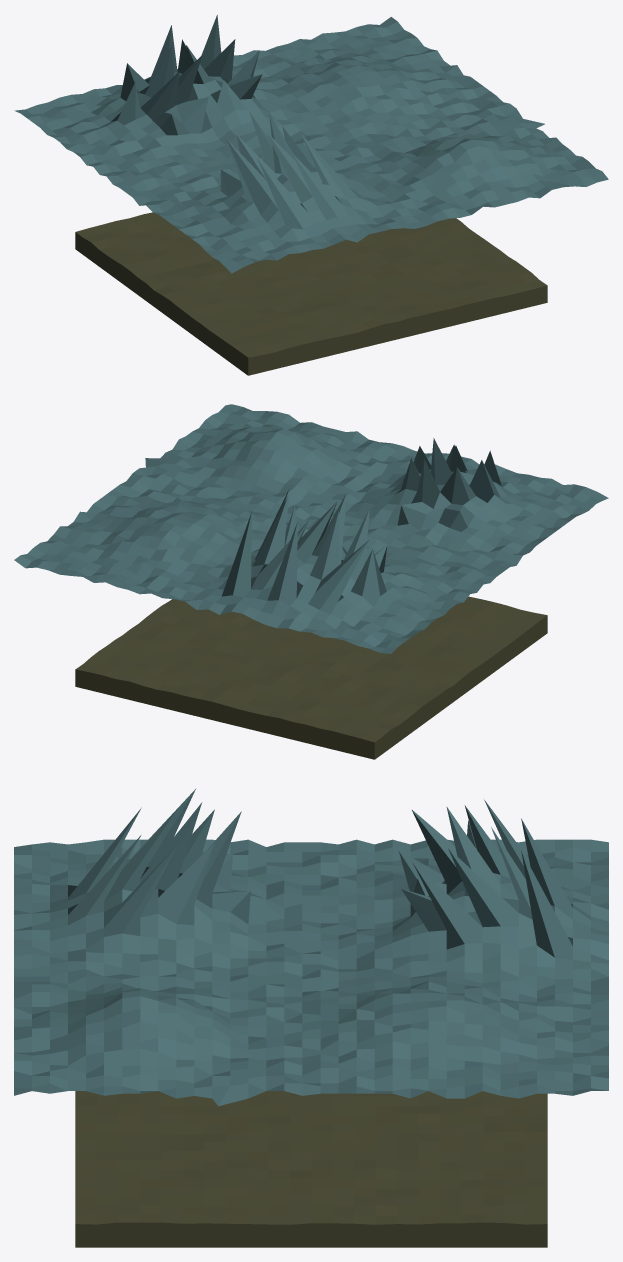
File: ground.glb
3 views of the same model, one above another, from view 1: azimuth 30°, elevation 25°; view 2: azimuth 150°, elevation 25°; view 3: azimuth 270°, elevation 25° (orthographic). The views are drawn at different scales.
Visible parts, largest first — view 1: 平面.001, 平面; view 2: 平面.001, 平面; view 3: 平面.001, 平面.
Part boxes in pixels (x1,y1,x2,y2): 平面.001: (14,15,608,273); 平面: (75,212,547,375); 平面.001: (14,404,608,653); 平面: (75,596,547,759); 平面.001: (14,789,608,1106); 平面: (75,1091,547,1247).
Size of the model in its own units: 138 by 72.29 by 134.
